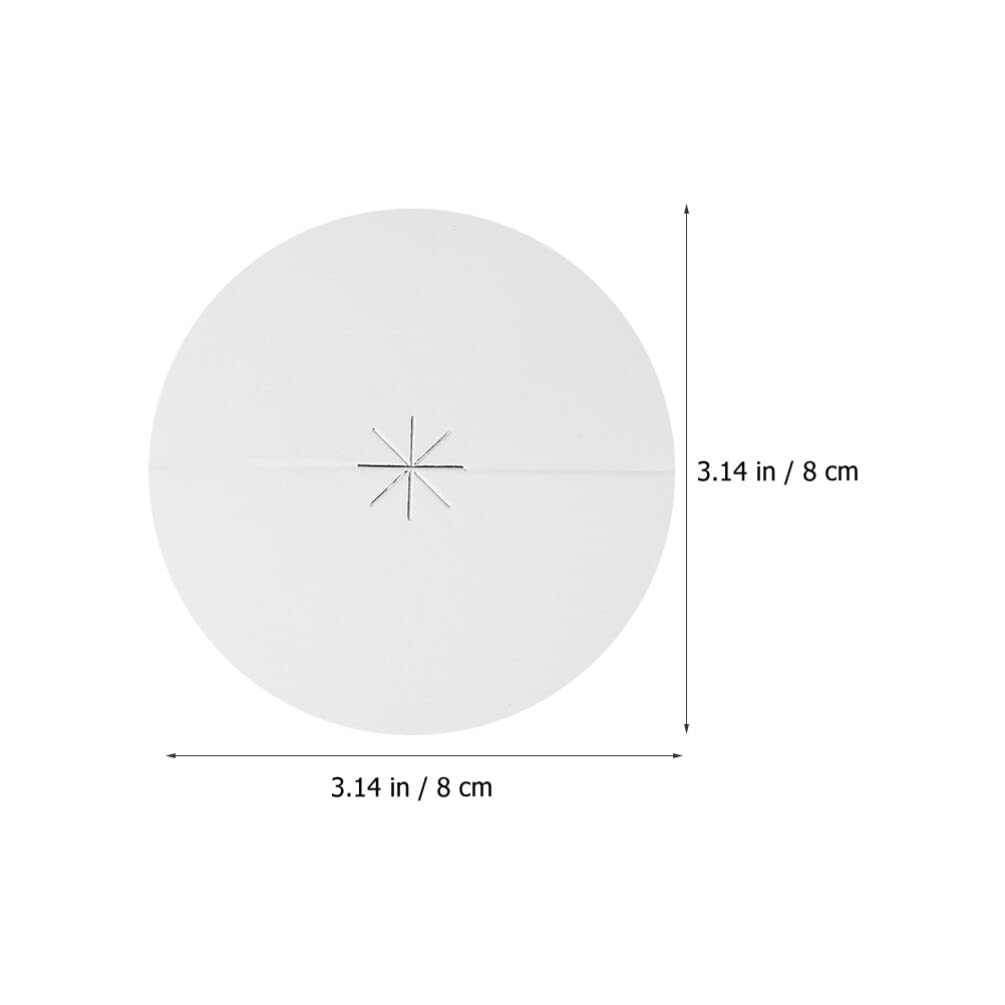3.14: (697, 460, 748, 482), (332, 776, 382, 798)
8cm: (809, 456, 858, 490)
in/: (391, 776, 428, 802), (758, 460, 794, 486)
